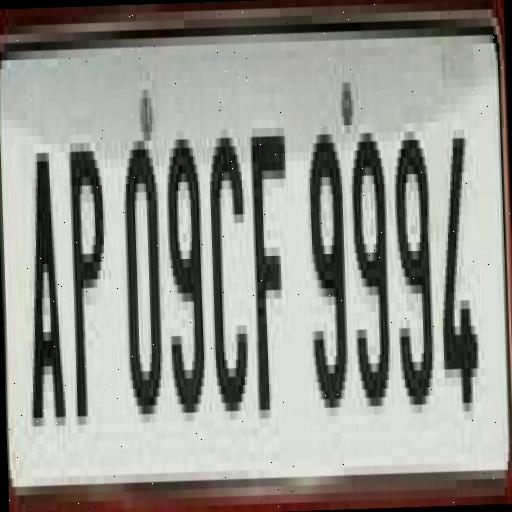number plate: (0, 9, 493, 512)
